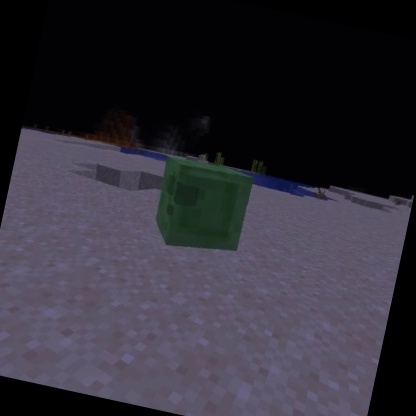slime: (144, 151, 259, 264)
